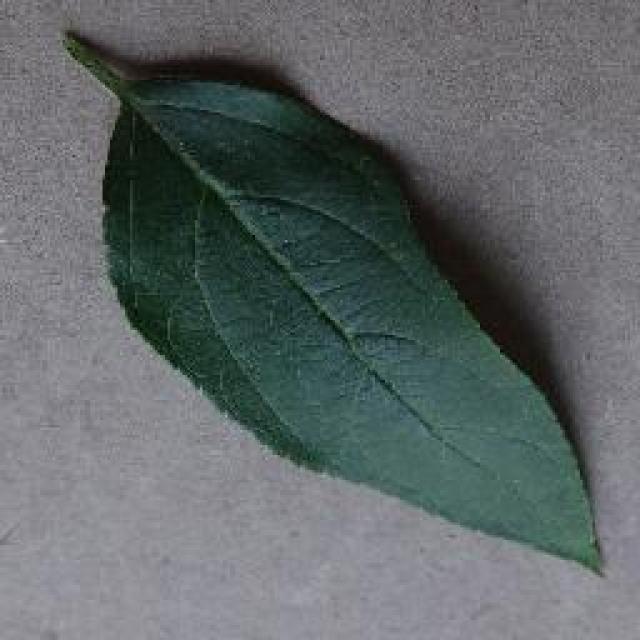apple healthy: (60, 25, 608, 577)
